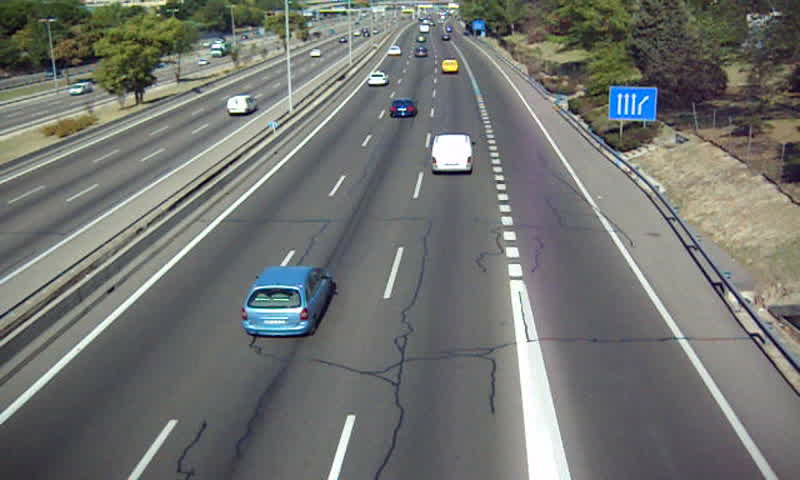car: (240, 265, 333, 337), (391, 98, 416, 118), (365, 71, 388, 88), (413, 44, 429, 58), (386, 43, 403, 56)
van: (431, 134, 473, 173), (440, 59, 460, 76)
